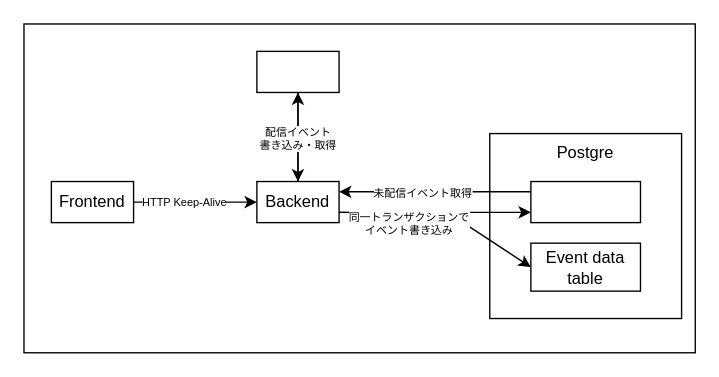
This 719x377 diagram has some shape labels left out. Each missing label, with the centre of its shape:
Outbox table: the point at 585,201
Redis Streams: the point at 297,71
